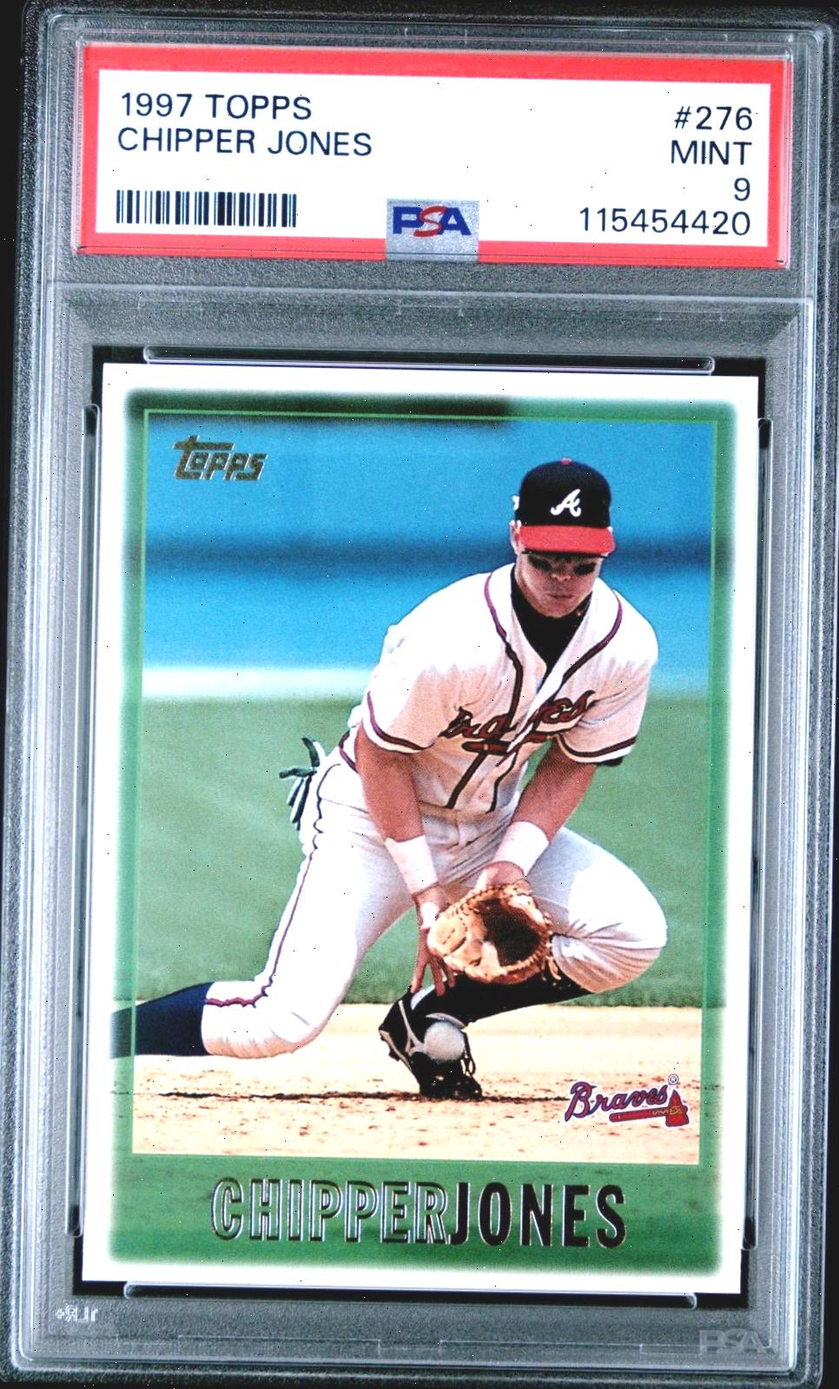card-2UtV: (81, 362, 759, 1294)
